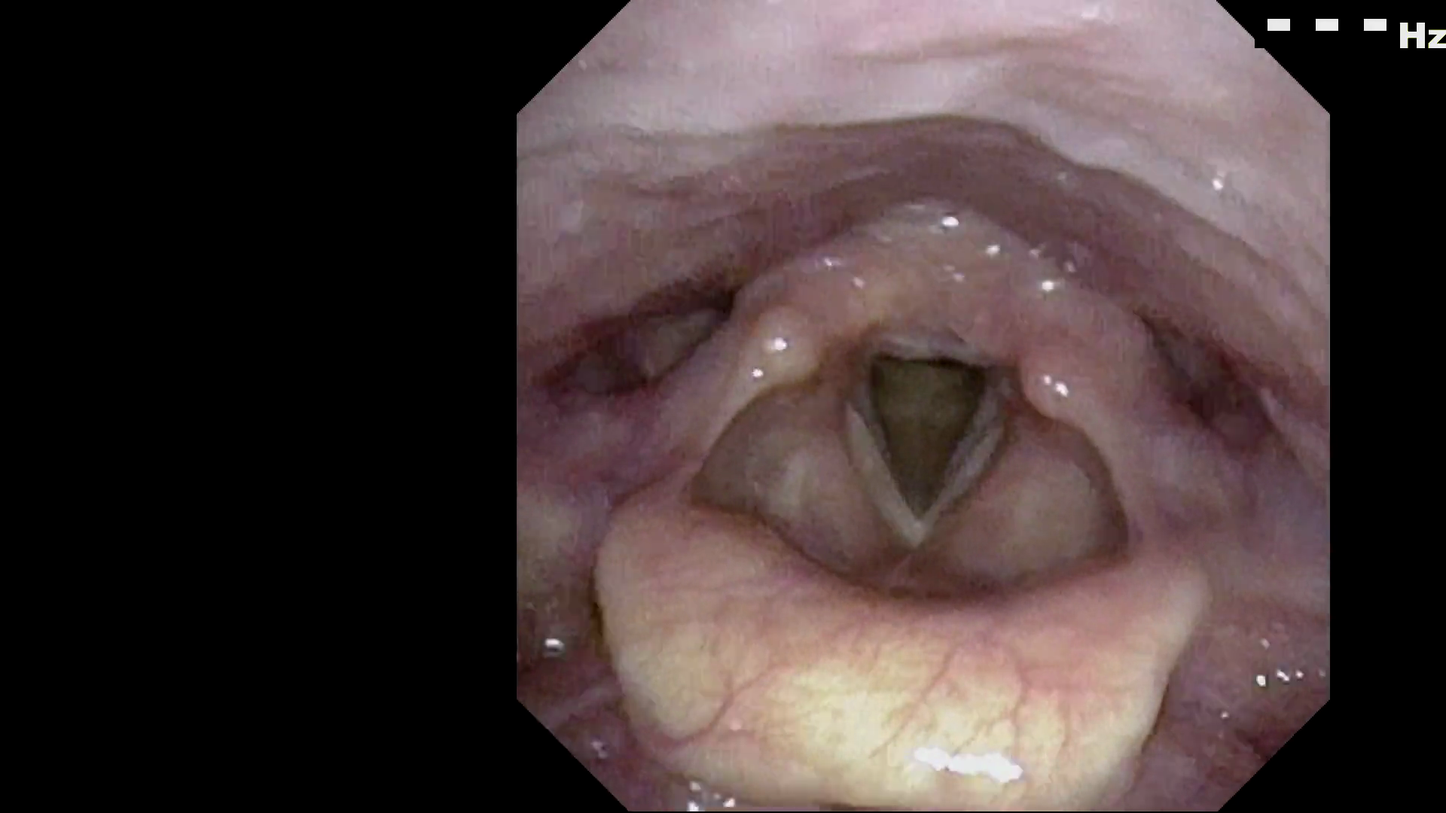epiglottis: (585, 503, 1209, 757)
trachea: (840, 328, 1019, 553)
